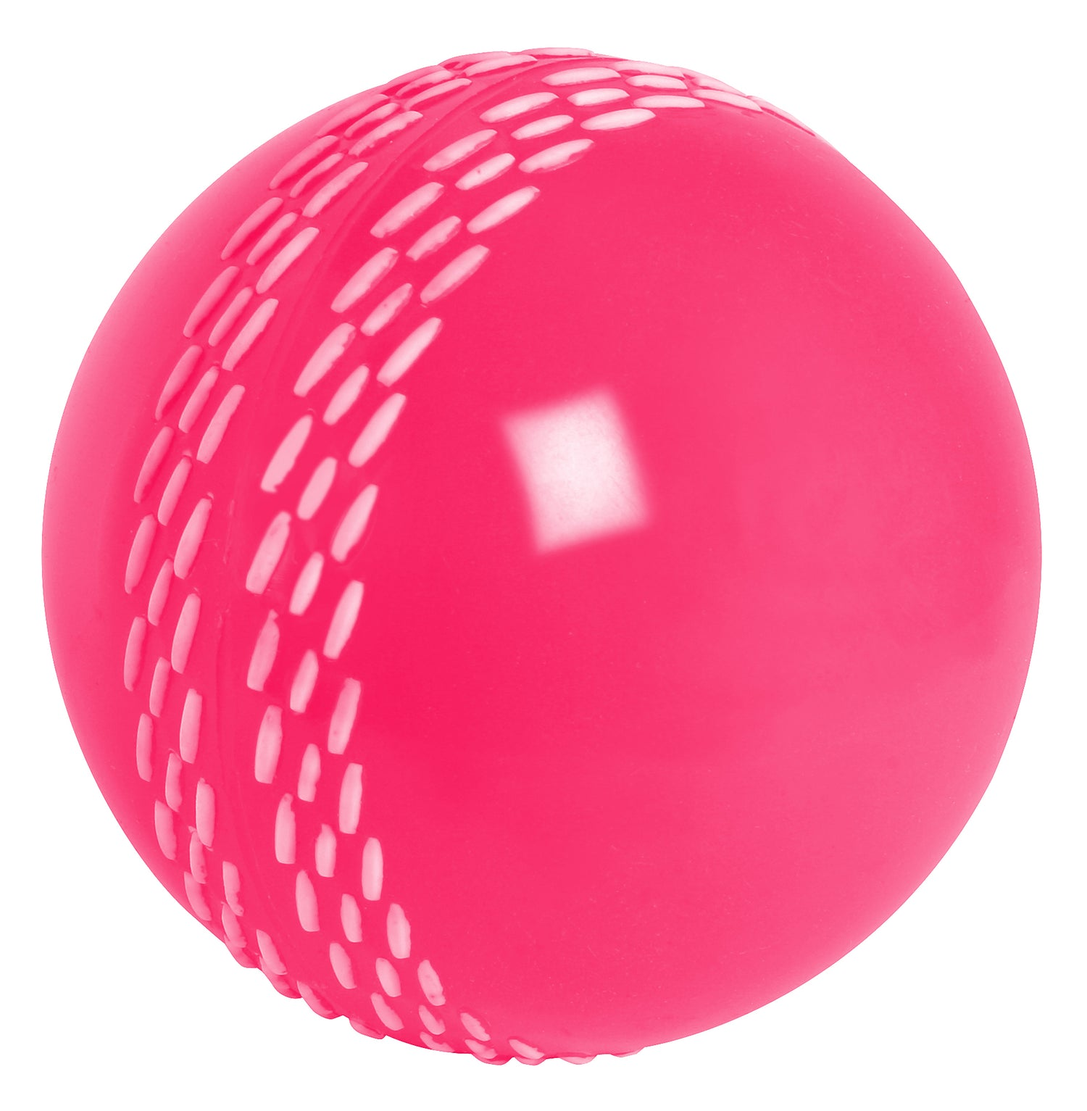sphere: (41, 47, 1042, 1067)
